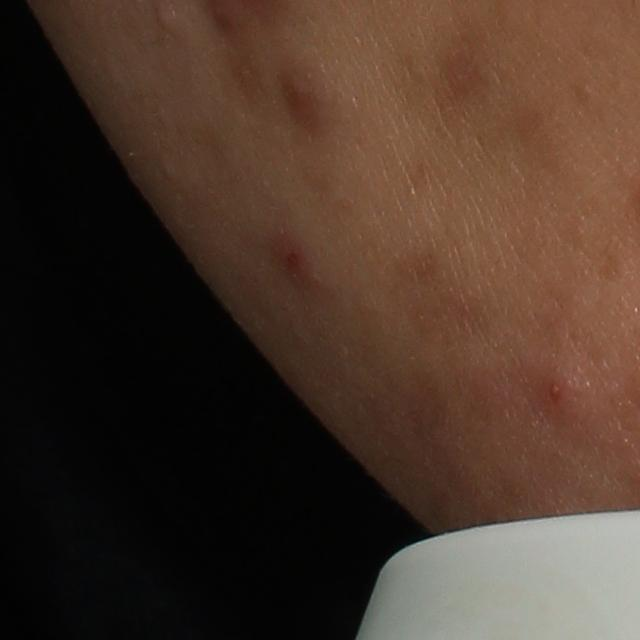comedo: (154, 3, 183, 41)
papule: (519, 363, 579, 437), (268, 235, 317, 285), (279, 74, 323, 125)
